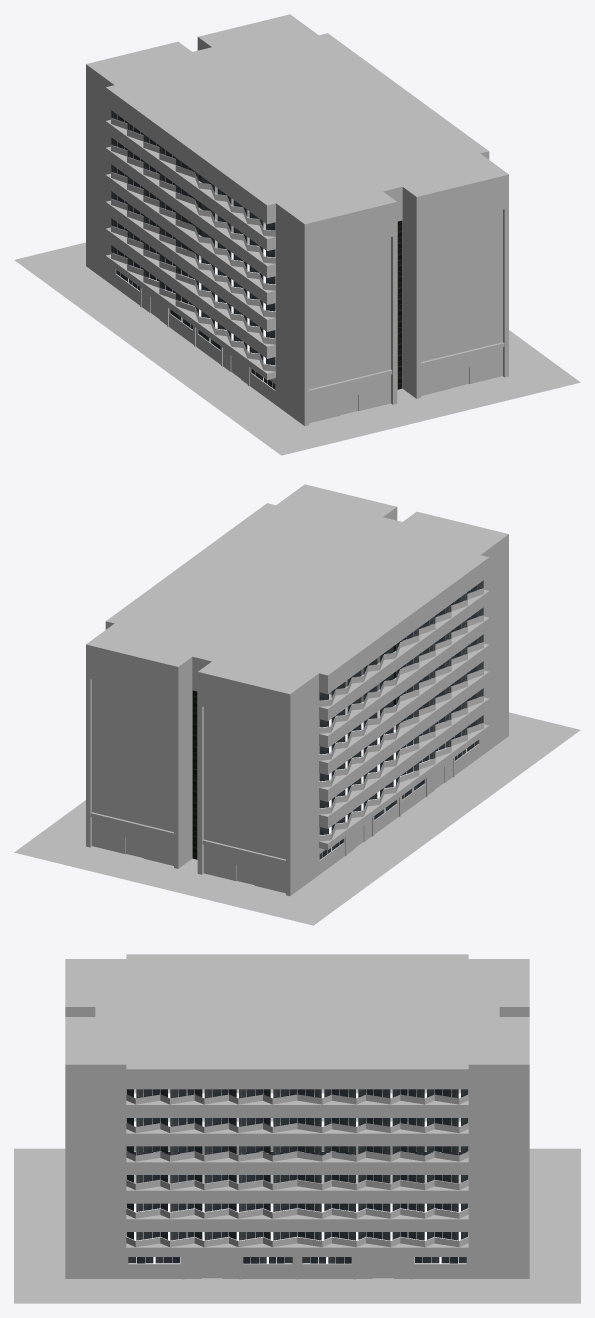
The picture shows the model from 3 angles, top to bottom: view 1: azimuth 30°, elevation 25°; view 2: azimuth 150°, elevation 25°; view 3: azimuth 270°, elevation 25°; orthographic projection. The views are drawn at different scales.
Parts seen in each view (by area): view 1: M-009; view 2: M-009; view 3: M-009.
Boxes of the visible parts, x1,y1,x2,y2 form: M-009: [14, 14, 580, 455]; M-009: [14, 484, 580, 925]; M-009: [14, 954, 580, 1303].
Size of what is drawn, in the model's own units: 46.57 by 30 by 72.
